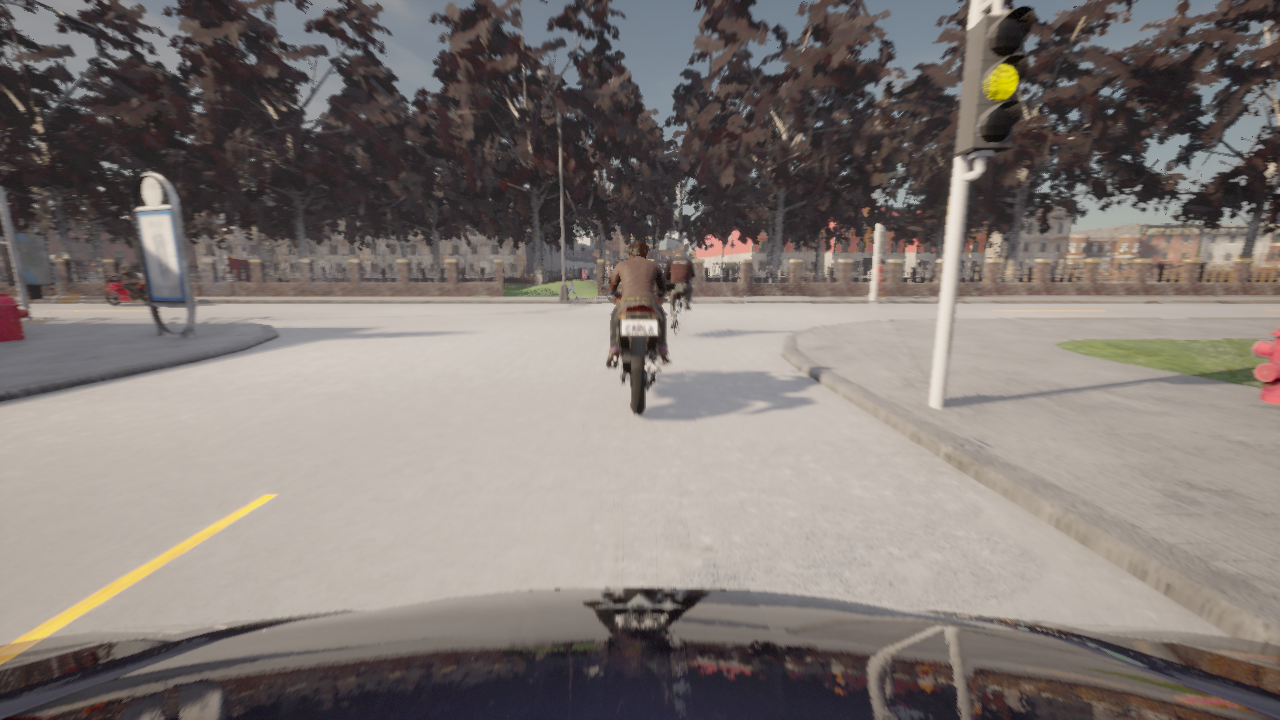cyclist: (0, 588, 1279, 719), (601, 284, 674, 415), (100, 275, 148, 305), (671, 294, 689, 337)
pedestrian: (874, 257, 884, 298), (567, 272, 577, 298)
